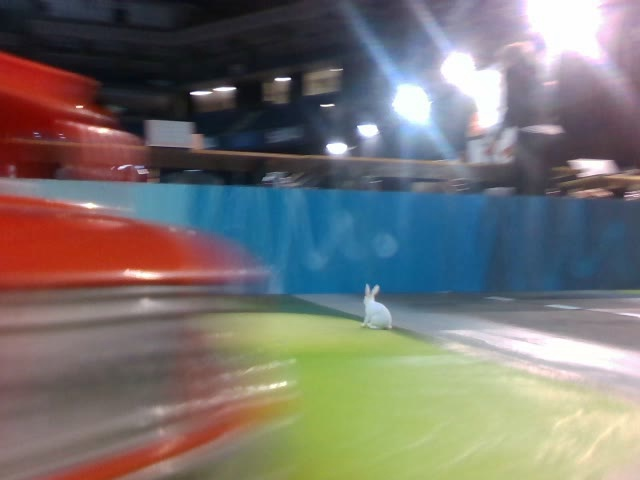toy: (362, 284, 394, 332)
